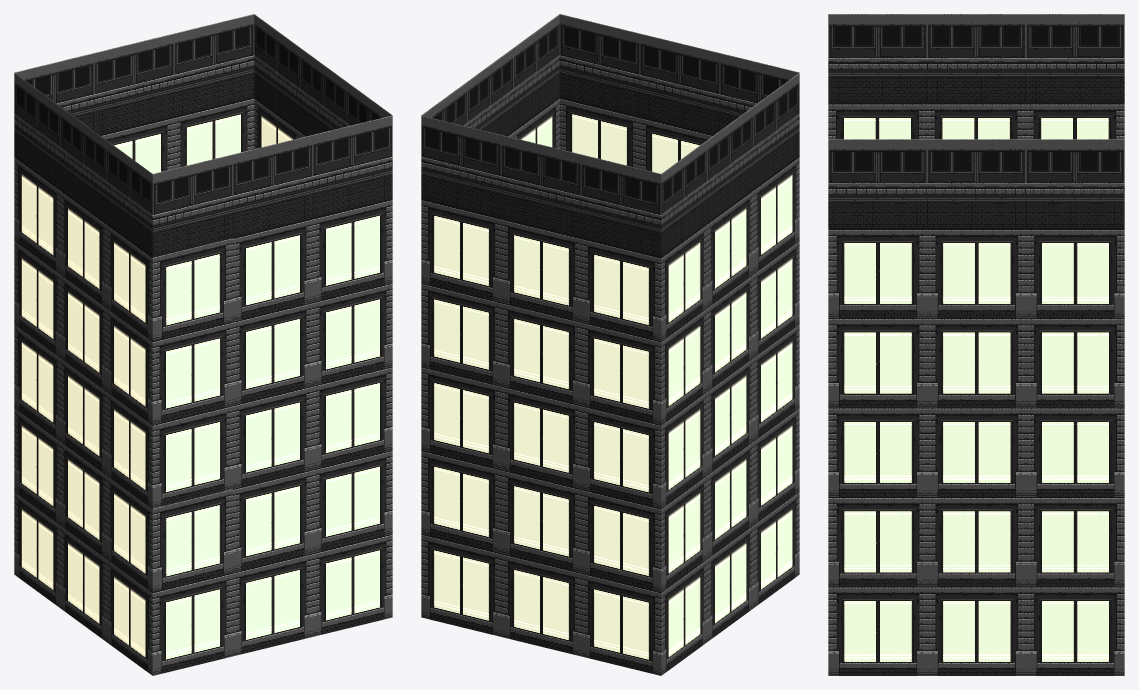
The model's file is building.FBX.
3 renders of one model, left to right at view 1: azimuth 30°, elevation 25°; view 2: azimuth 150°, elevation 25°; view 3: azimuth 270°, elevation 25°, orthographic. The views are drawn at different scales.
Parts seen in each view (by area): view 1: building_2, building; view 2: building_2, building; view 3: building_2, building.
Part boxes in pixels (left/top/right/bottom): building_2: left=14, top=14, right=392, bottom=424; building: left=14, top=324, right=392, bottom=675; building_2: left=421, top=14, right=799, bottom=424; building: left=421, top=324, right=799, bottom=675; building_2: left=828, top=14, right=1124, bottom=407; building: left=828, top=407, right=1124, bottom=675.
Bounding box in the file's own units: 50 × 99.97 × 50.
Materials: 1 (1 with a texture image).
